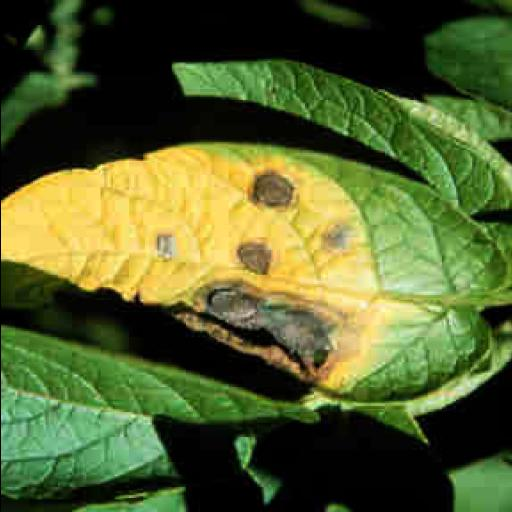Early Blight: (0, 138, 505, 406)
